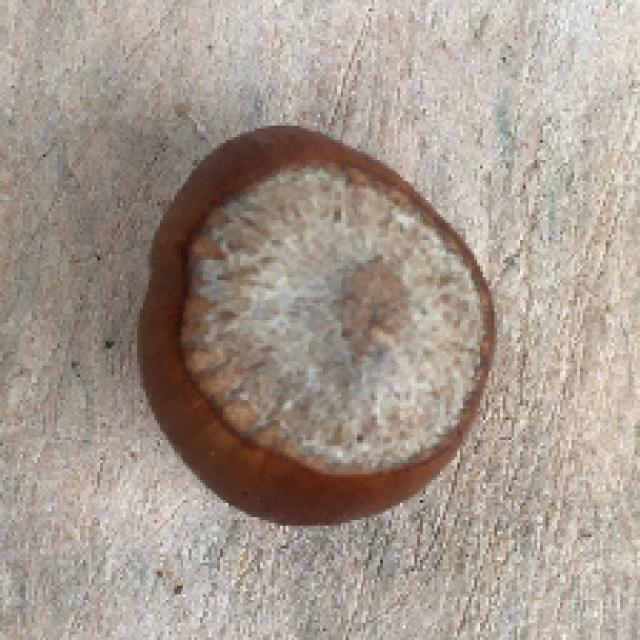qualityHazelnut: (134, 123, 497, 530)
